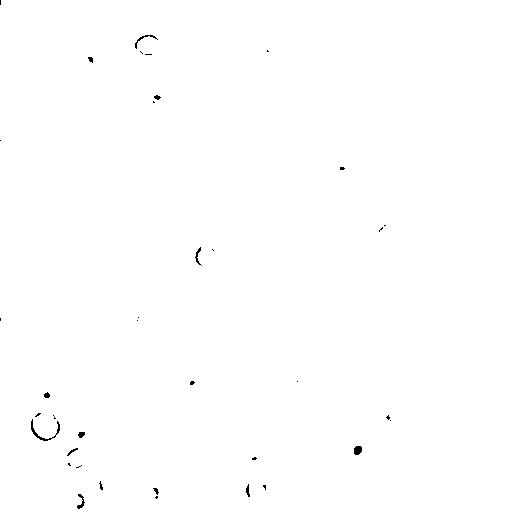micro-algae: (326, 259, 419, 339), (2, 127, 38, 187), (321, 149, 360, 186), (388, 236, 427, 273), (187, 72, 225, 109), (67, 35, 103, 73), (279, 366, 315, 403), (247, 31, 283, 67), (340, 431, 372, 468), (412, 0, 451, 30), (63, 419, 99, 451), (413, 287, 447, 319), (67, 471, 101, 503), (70, 138, 95, 179), (29, 411, 59, 441), (377, 333, 405, 365), (178, 369, 211, 395), (238, 441, 266, 470), (33, 54, 63, 81), (391, 277, 418, 307), (19, 151, 46, 180), (203, 116, 229, 146), (395, 309, 425, 335), (153, 95, 182, 121), (278, 61, 307, 87), (479, 2, 507, 28), (377, 402, 406, 426), (243, 475, 269, 500), (101, 67, 128, 91), (327, 105, 355, 127), (133, 32, 162, 53), (169, 274, 193, 299), (62, 446, 87, 470), (89, 53, 114, 75), (195, 241, 216, 267), (235, 123, 257, 147), (375, 219, 395, 244), (139, 482, 162, 503), (334, 334, 357, 354), (101, 467, 116, 497), (201, 495, 228, 511), (125, 303, 143, 326), (93, 441, 113, 461), (32, 383, 53, 402), (18, 183, 40, 198), (67, 494, 85, 509)
